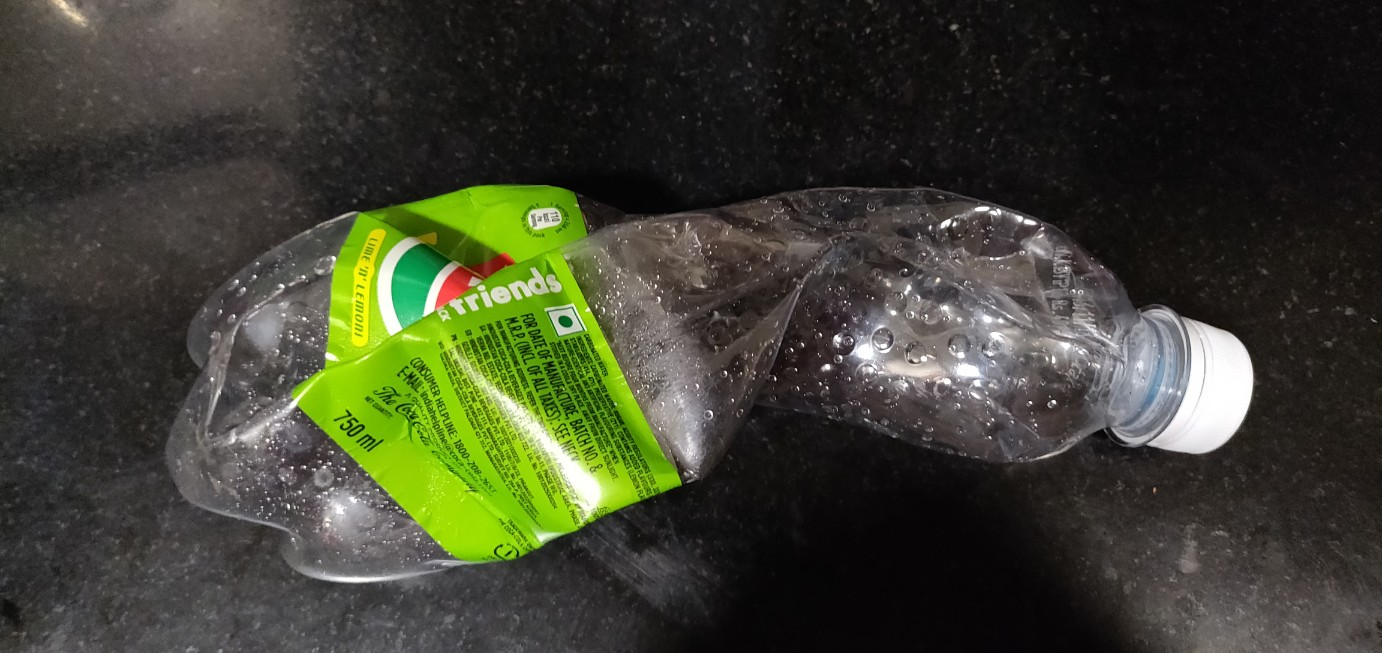Electronics: (144, 140, 1285, 602)
